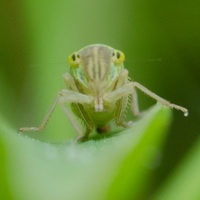insect: (19, 44, 188, 140)
